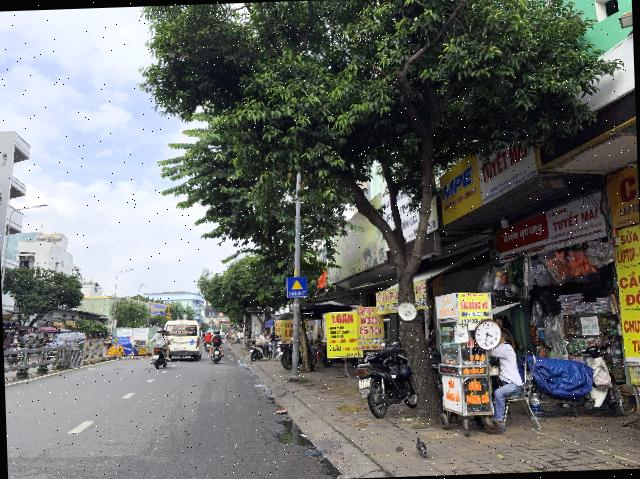khu-vuc-cho-phia-truoc: (286, 276, 308, 298)
